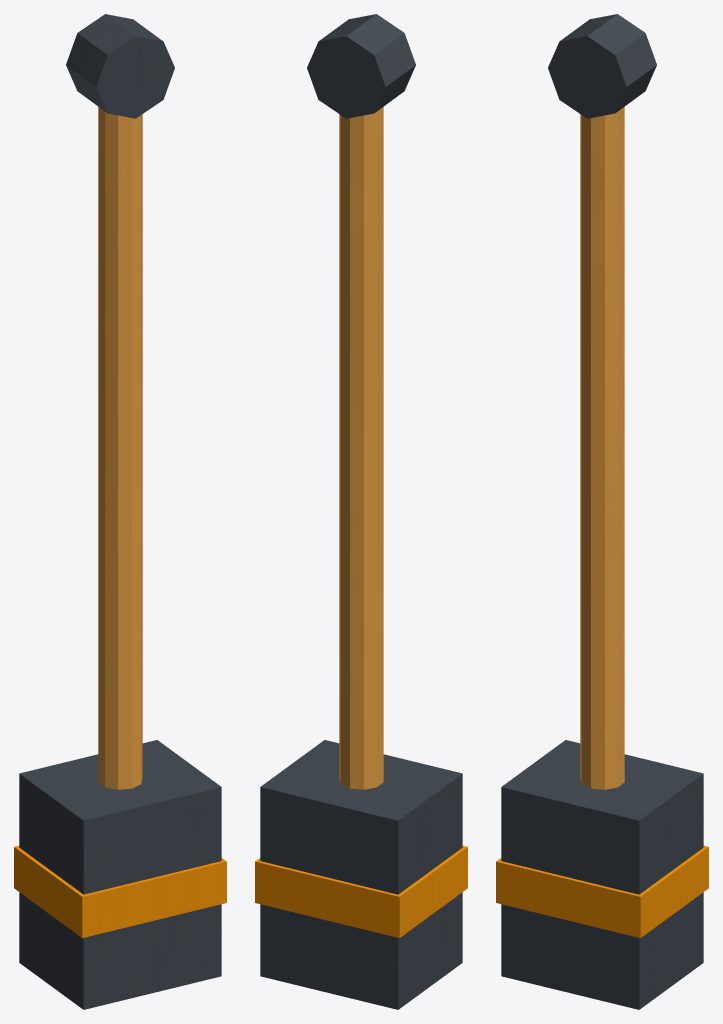
The model's file is Hammer_Age1.obj.
3 views of the same model, side by side, from view 1: azimuth 30°, elevation 25°; view 2: azimuth 150°, elevation 25°; view 3: azimuth 330°, elevation 25° (orthographic).
Visible parts, largest first — view 1: Hammer_Age1; view 2: Hammer_Age1; view 3: Hammer_Age1.
Part boxes in pixels (box(x1,y1,x2,y2)): Hammer_Age1: box(14, 14, 226, 1009); Hammer_Age1: box(255, 14, 467, 1009); Hammer_Age1: box(496, 14, 708, 1009).
Bounding box in the file's own units: 0.44 × 2.74 × 0.36.
Materials: 1 (1 with a texture image).
